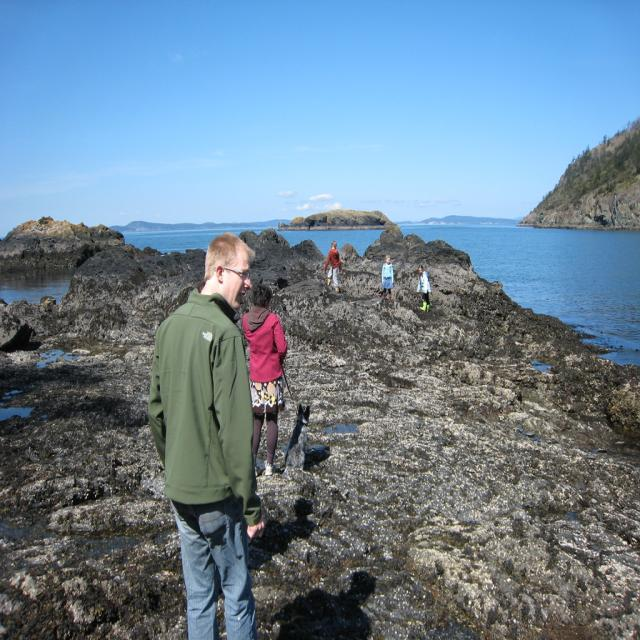no_helmet: (178, 247, 274, 326)
